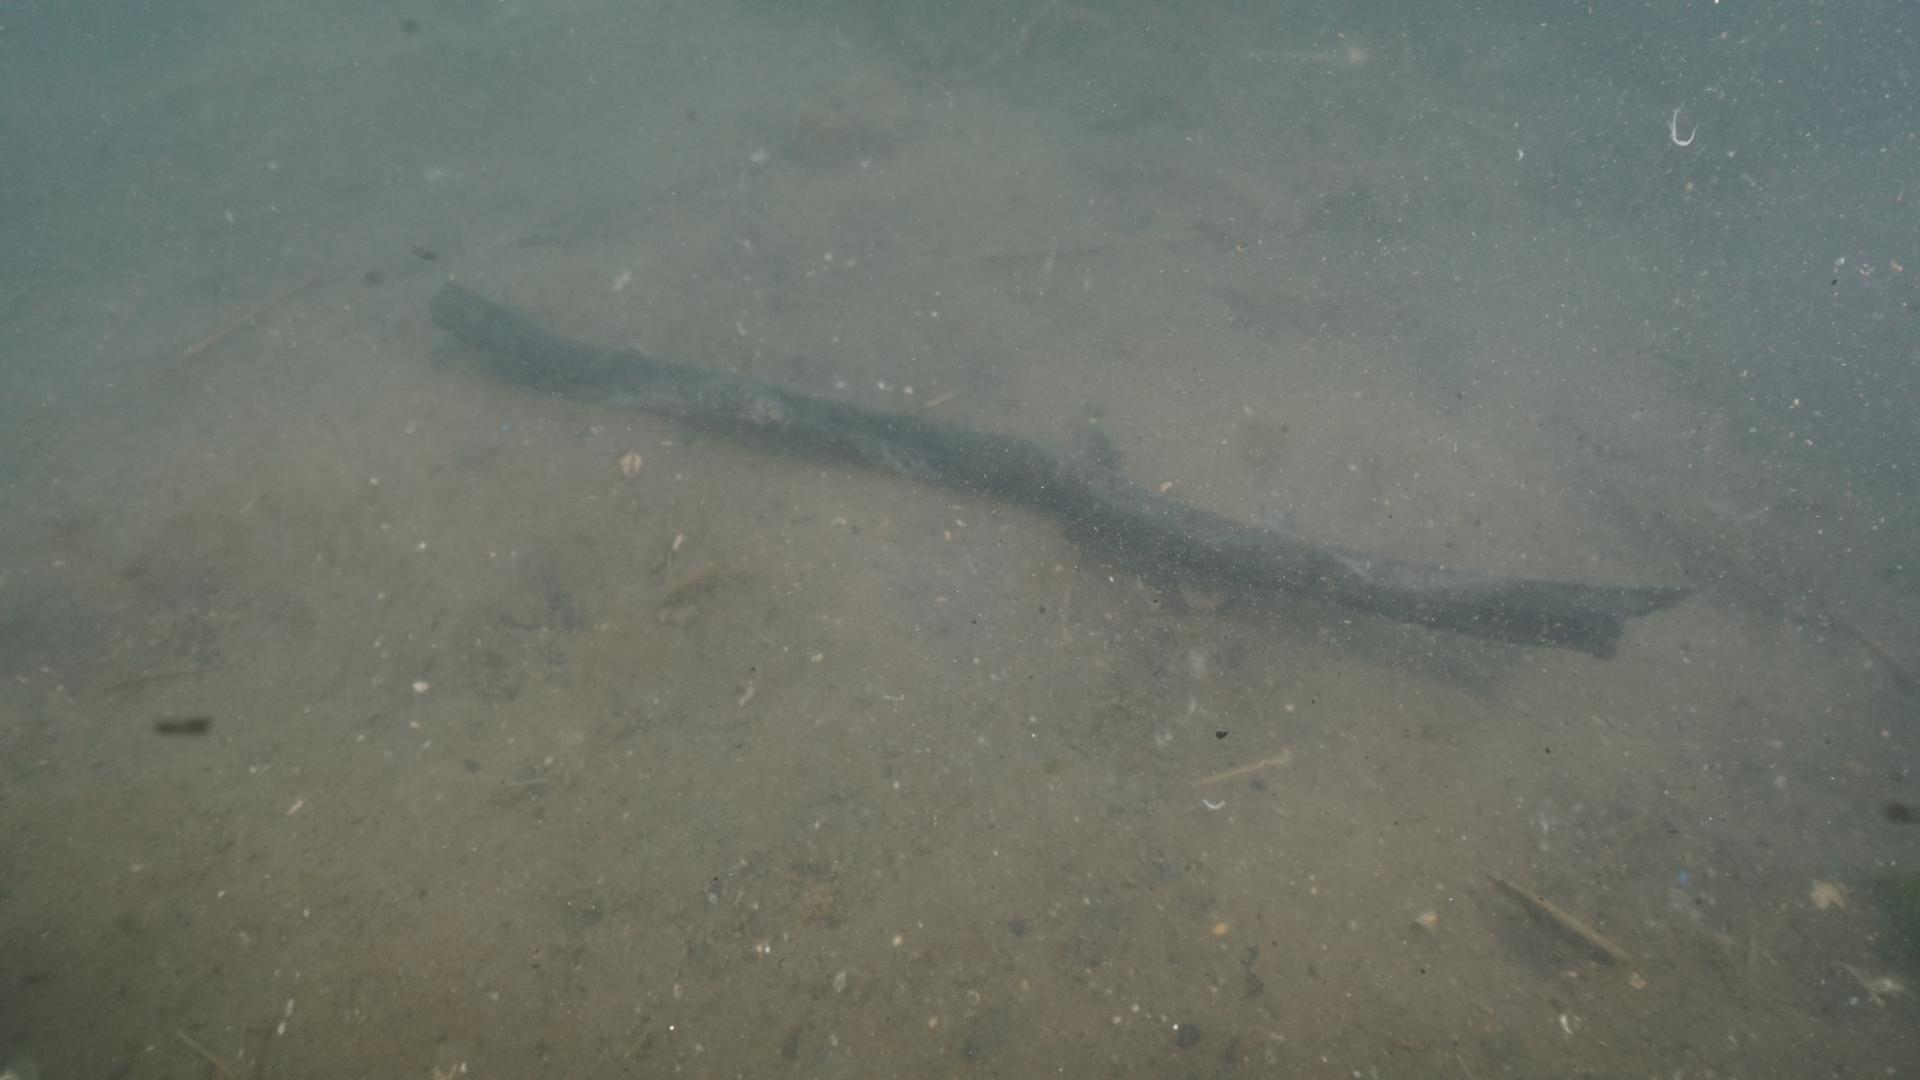wood: (426, 281, 1695, 659)
